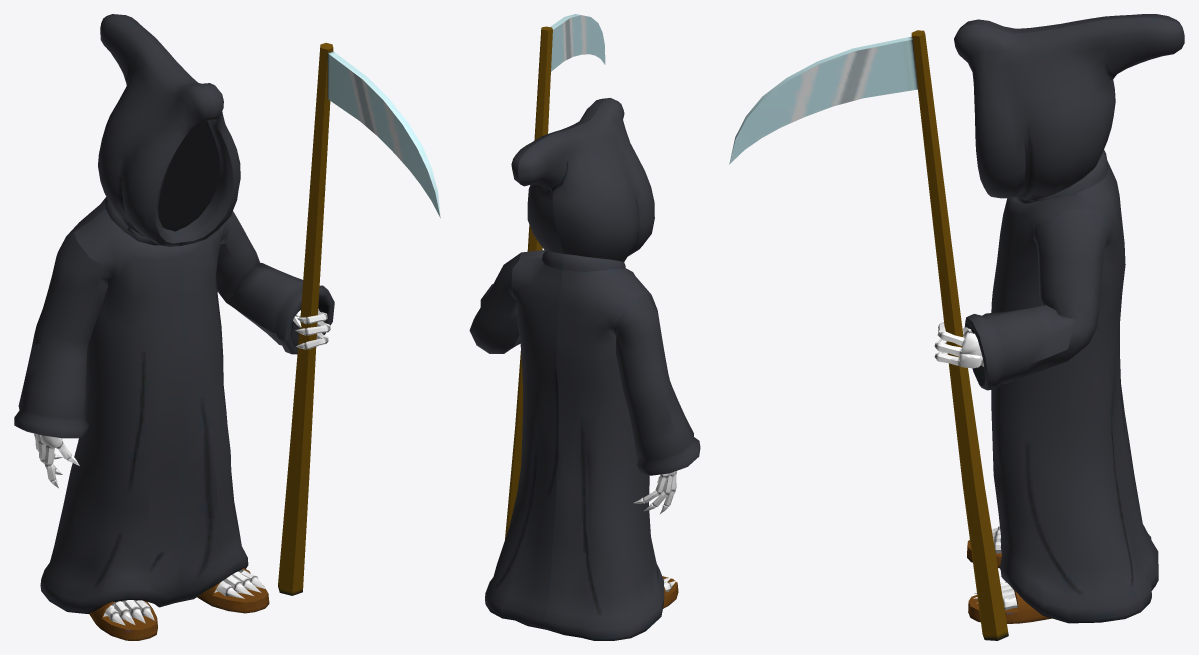
The model's file is death.DAE.
3 views of the same model, side by side, from view 1: azimuth 30°, elevation 25°; view 2: azimuth 150°, elevation 25°; view 3: azimuth 270°, elevation 25° (orthographic). The views are drawn at different scales.
Parts seen in each view (by area): view 1: death, scythe; view 2: death, scythe; view 3: death, scythe.
Part boxes in pixels (x1,y1,x2,y2): death: (14, 14, 334, 640); scythe: (278, 43, 440, 595); death: (469, 98, 700, 640); scythe: (505, 14, 605, 539); death: (934, 14, 1184, 623); scythe: (729, 30, 1008, 640).
Bounding box in the file's own units: 107 × 212 × 145.
